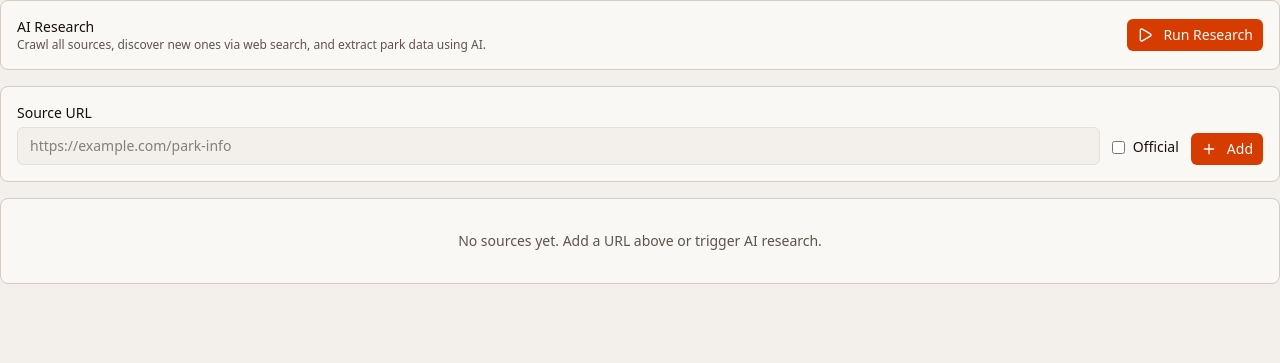
SourceManagementTable › runs research successfully
The image size is (1280, 363).
Step 1. Click the button "Run Research" → click(1195, 35), box [1127,19,1263,51]
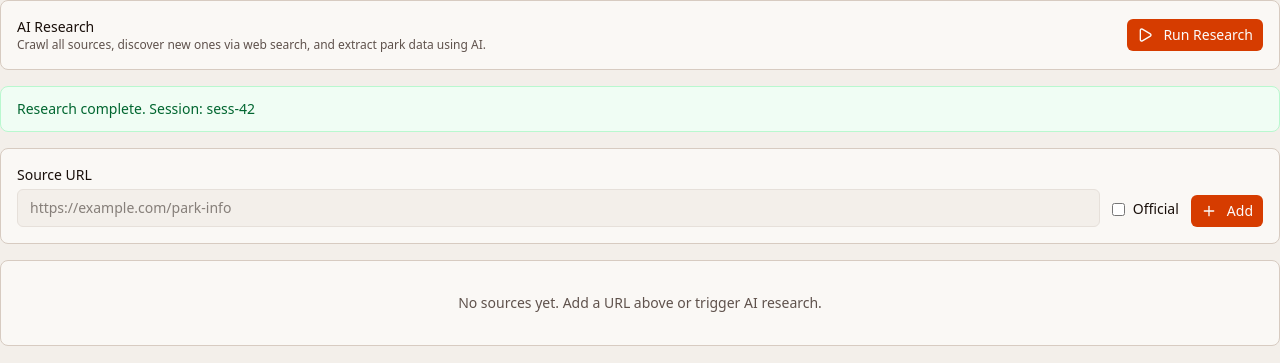
Expected: the text "Research complete. Session: sess-42" is shown, [0,86,1279,132]
